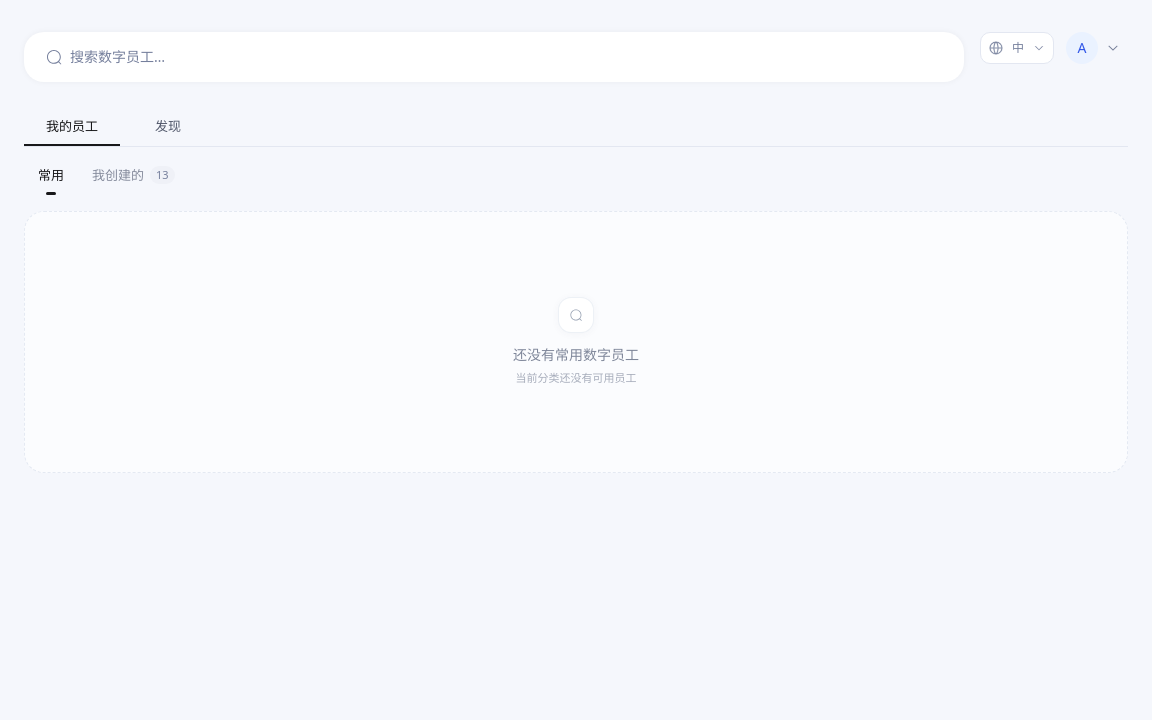
Test case: shows twelve owned employees per page and requests page two
Step 1. Click the tab "我创建的 13" → (133, 174), box [78,158,189,190]
(page scrolled)
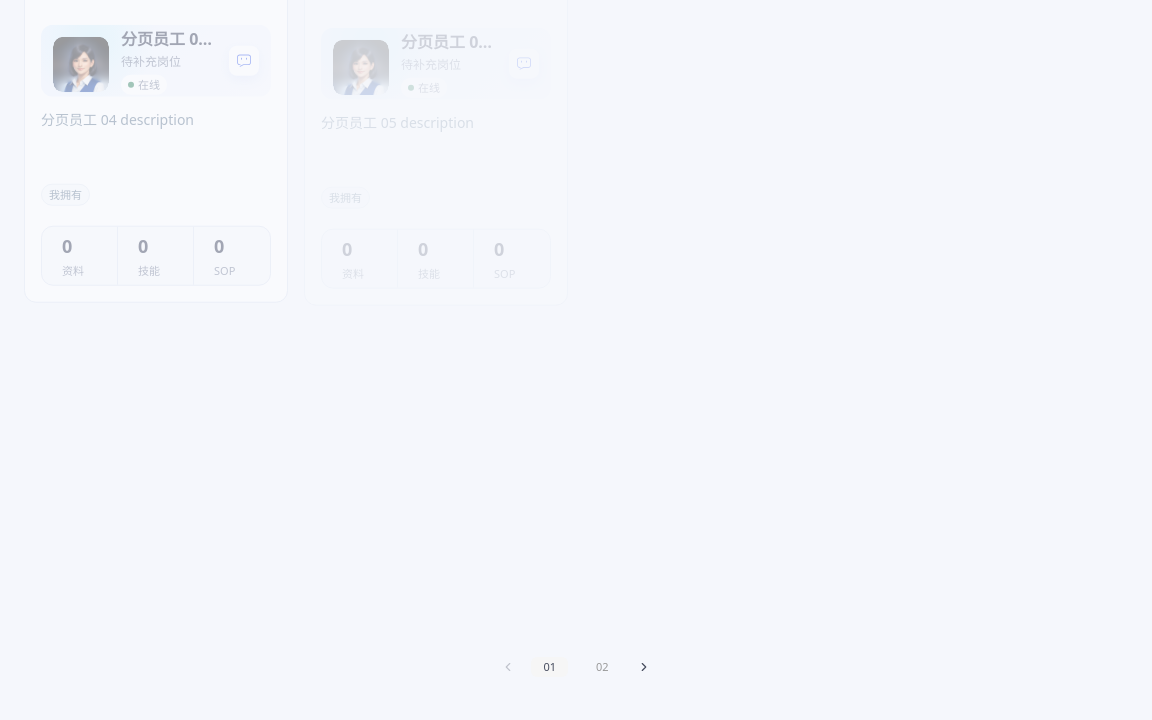
Check: the button "分页员工 12" is not shown
Check: the navigation bar named "数字员工分页" is shown, box [501,656,651,676]
Step 2. Click the button named "下一页" → (644, 666), box [637,660,651,674]
(page scrolled)
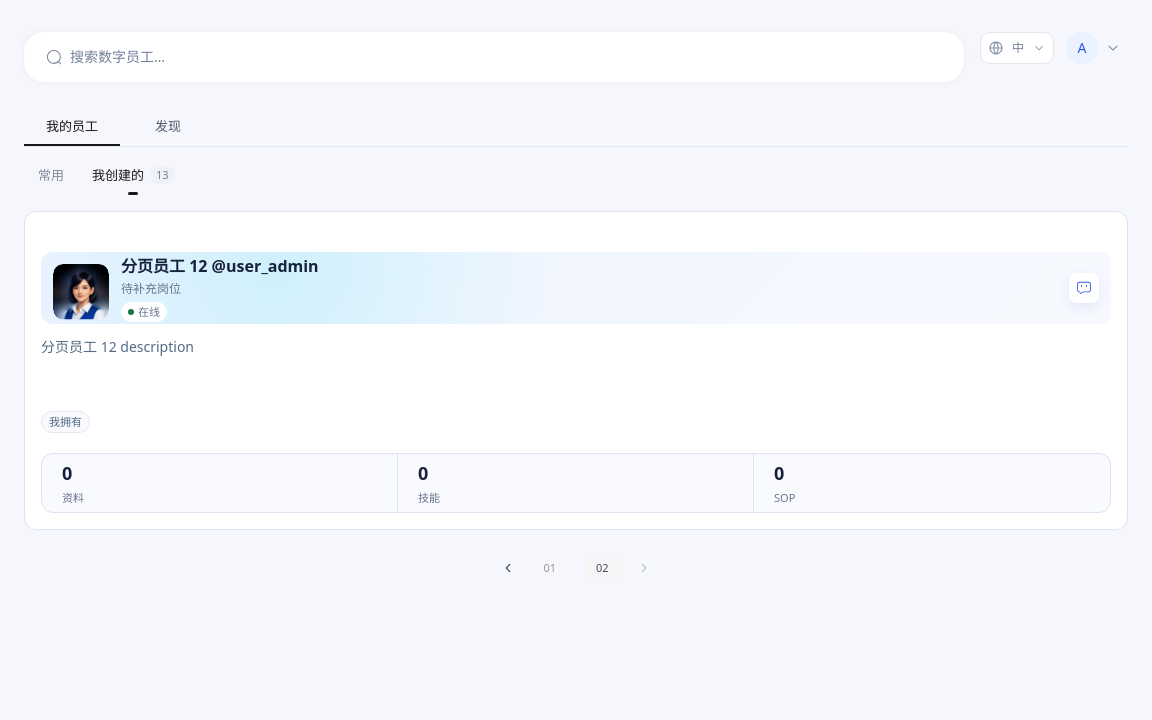
Check: the button "分页员工 12" is shown, box [24,210,1128,530]
